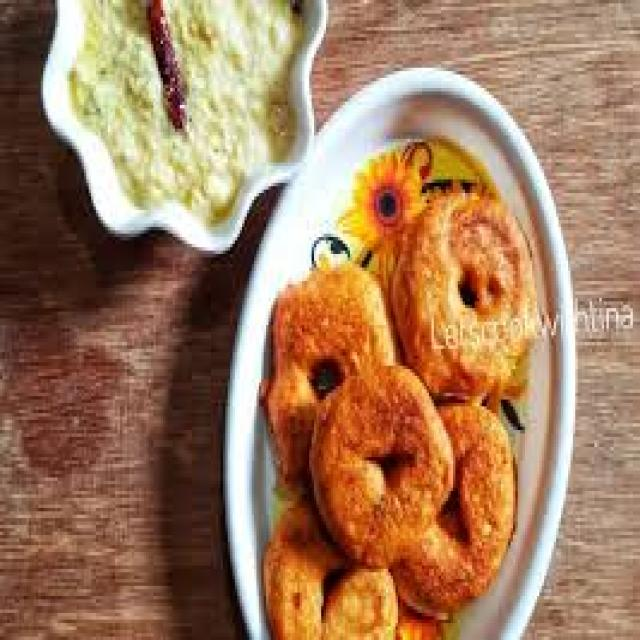MEDU VADA: (391, 183, 539, 396), (314, 362, 453, 566), (391, 406, 515, 616), (268, 264, 393, 467), (266, 488, 436, 637)
